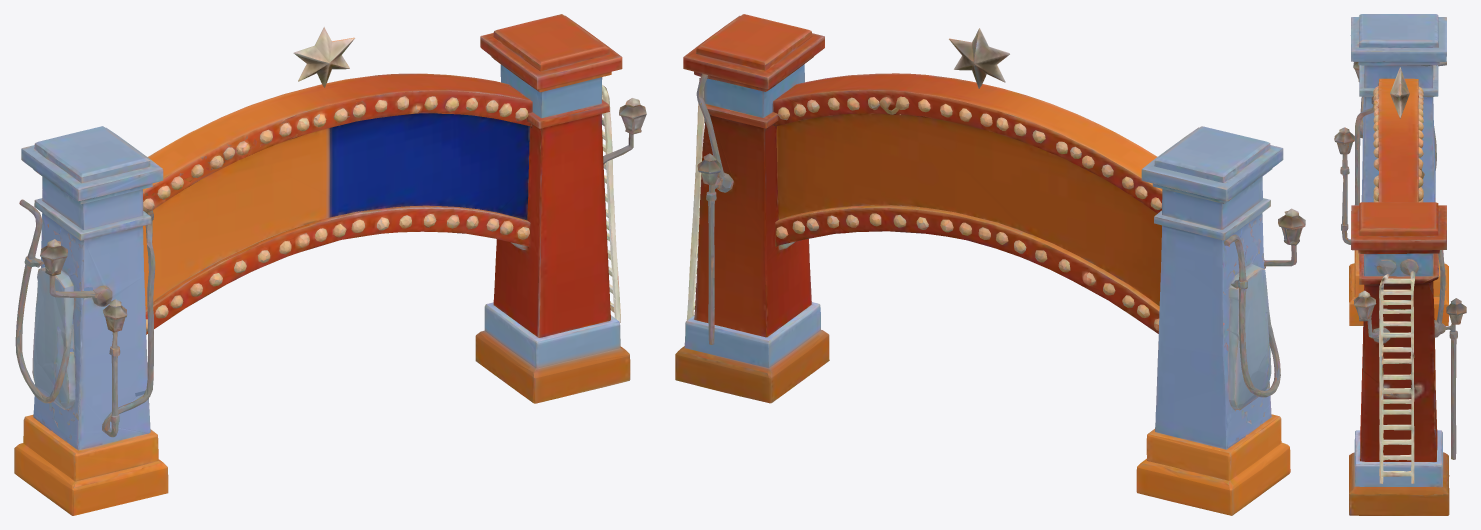
File: arch.glb
The picture shows the model from 3 angles, left to right: view 1: azimuth 30°, elevation 25°; view 2: azimuth 150°, elevation 25°; view 3: azimuth 270°, elevation 25°; orthographic projection. The views are drawn at different scales.
Parts seen in each view (by area): view 1: geometry_0; view 2: geometry_0; view 3: geometry_0.
Part boxes in pixels (<box>): geometry_0: <box>14,14,646,515</box>; geometry_0: <box>675,14,1305,515</box>; geometry_0: <box>1334,14,1466,515</box>.
Bounding box in the file's own units: 1 × 0.63 × 0.2251.
1 material, 1 textured.
